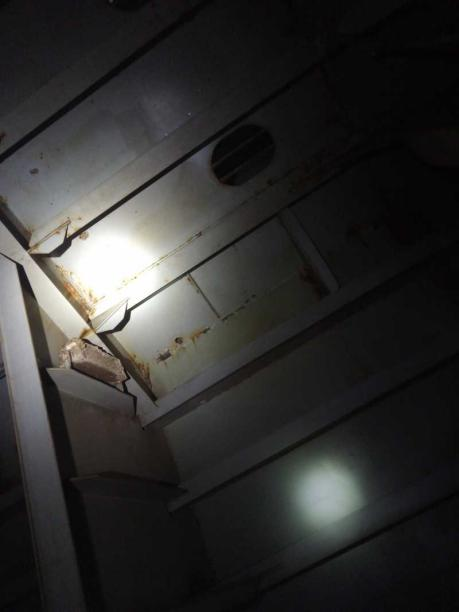corrosion: (51, 259, 103, 324), (39, 220, 91, 251), (136, 316, 166, 361), (189, 317, 211, 345)
